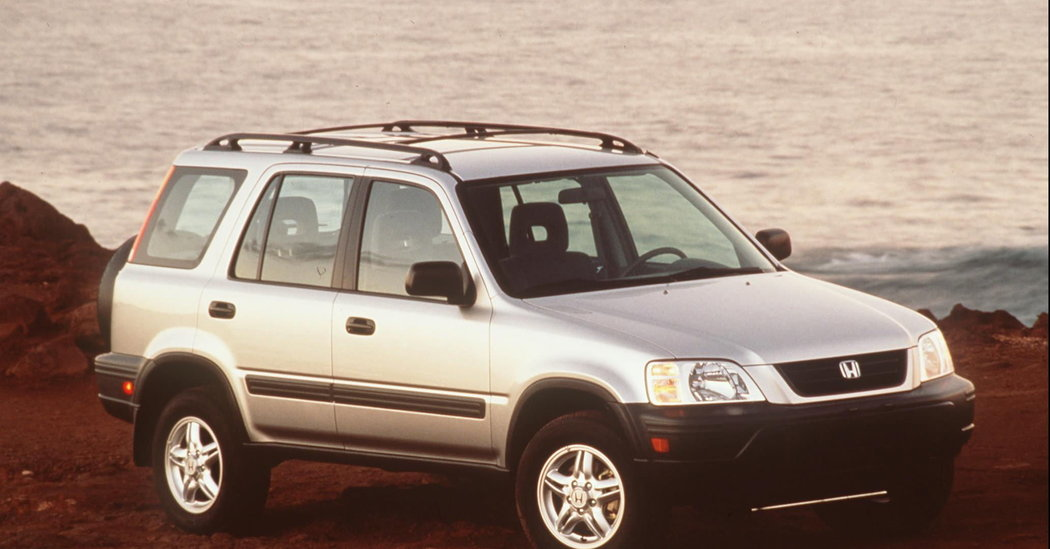car: (92, 121, 975, 549)
